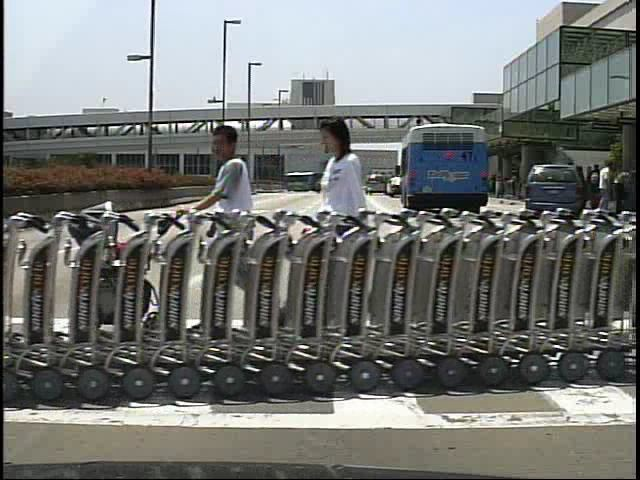person: (186, 121, 271, 347), (313, 116, 384, 349), (595, 161, 616, 211), (587, 163, 604, 214)
